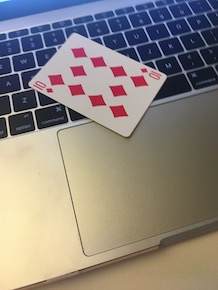TenOfDiamonds: (24, 32, 169, 139)
